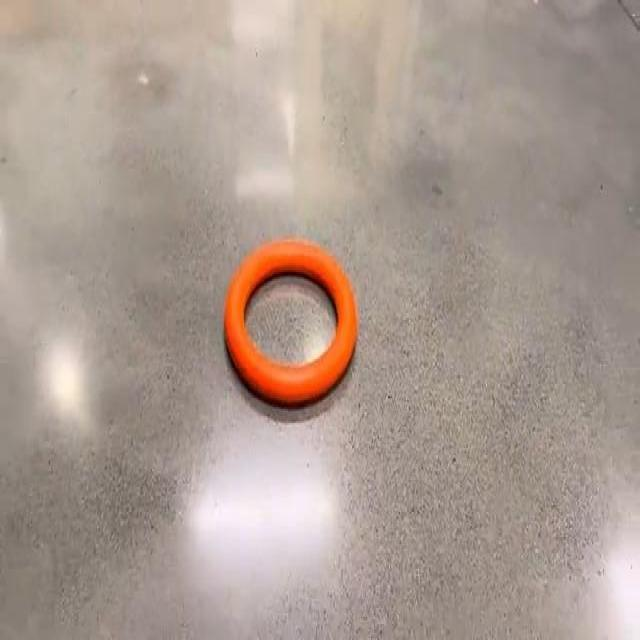note: (225, 240, 357, 403)
